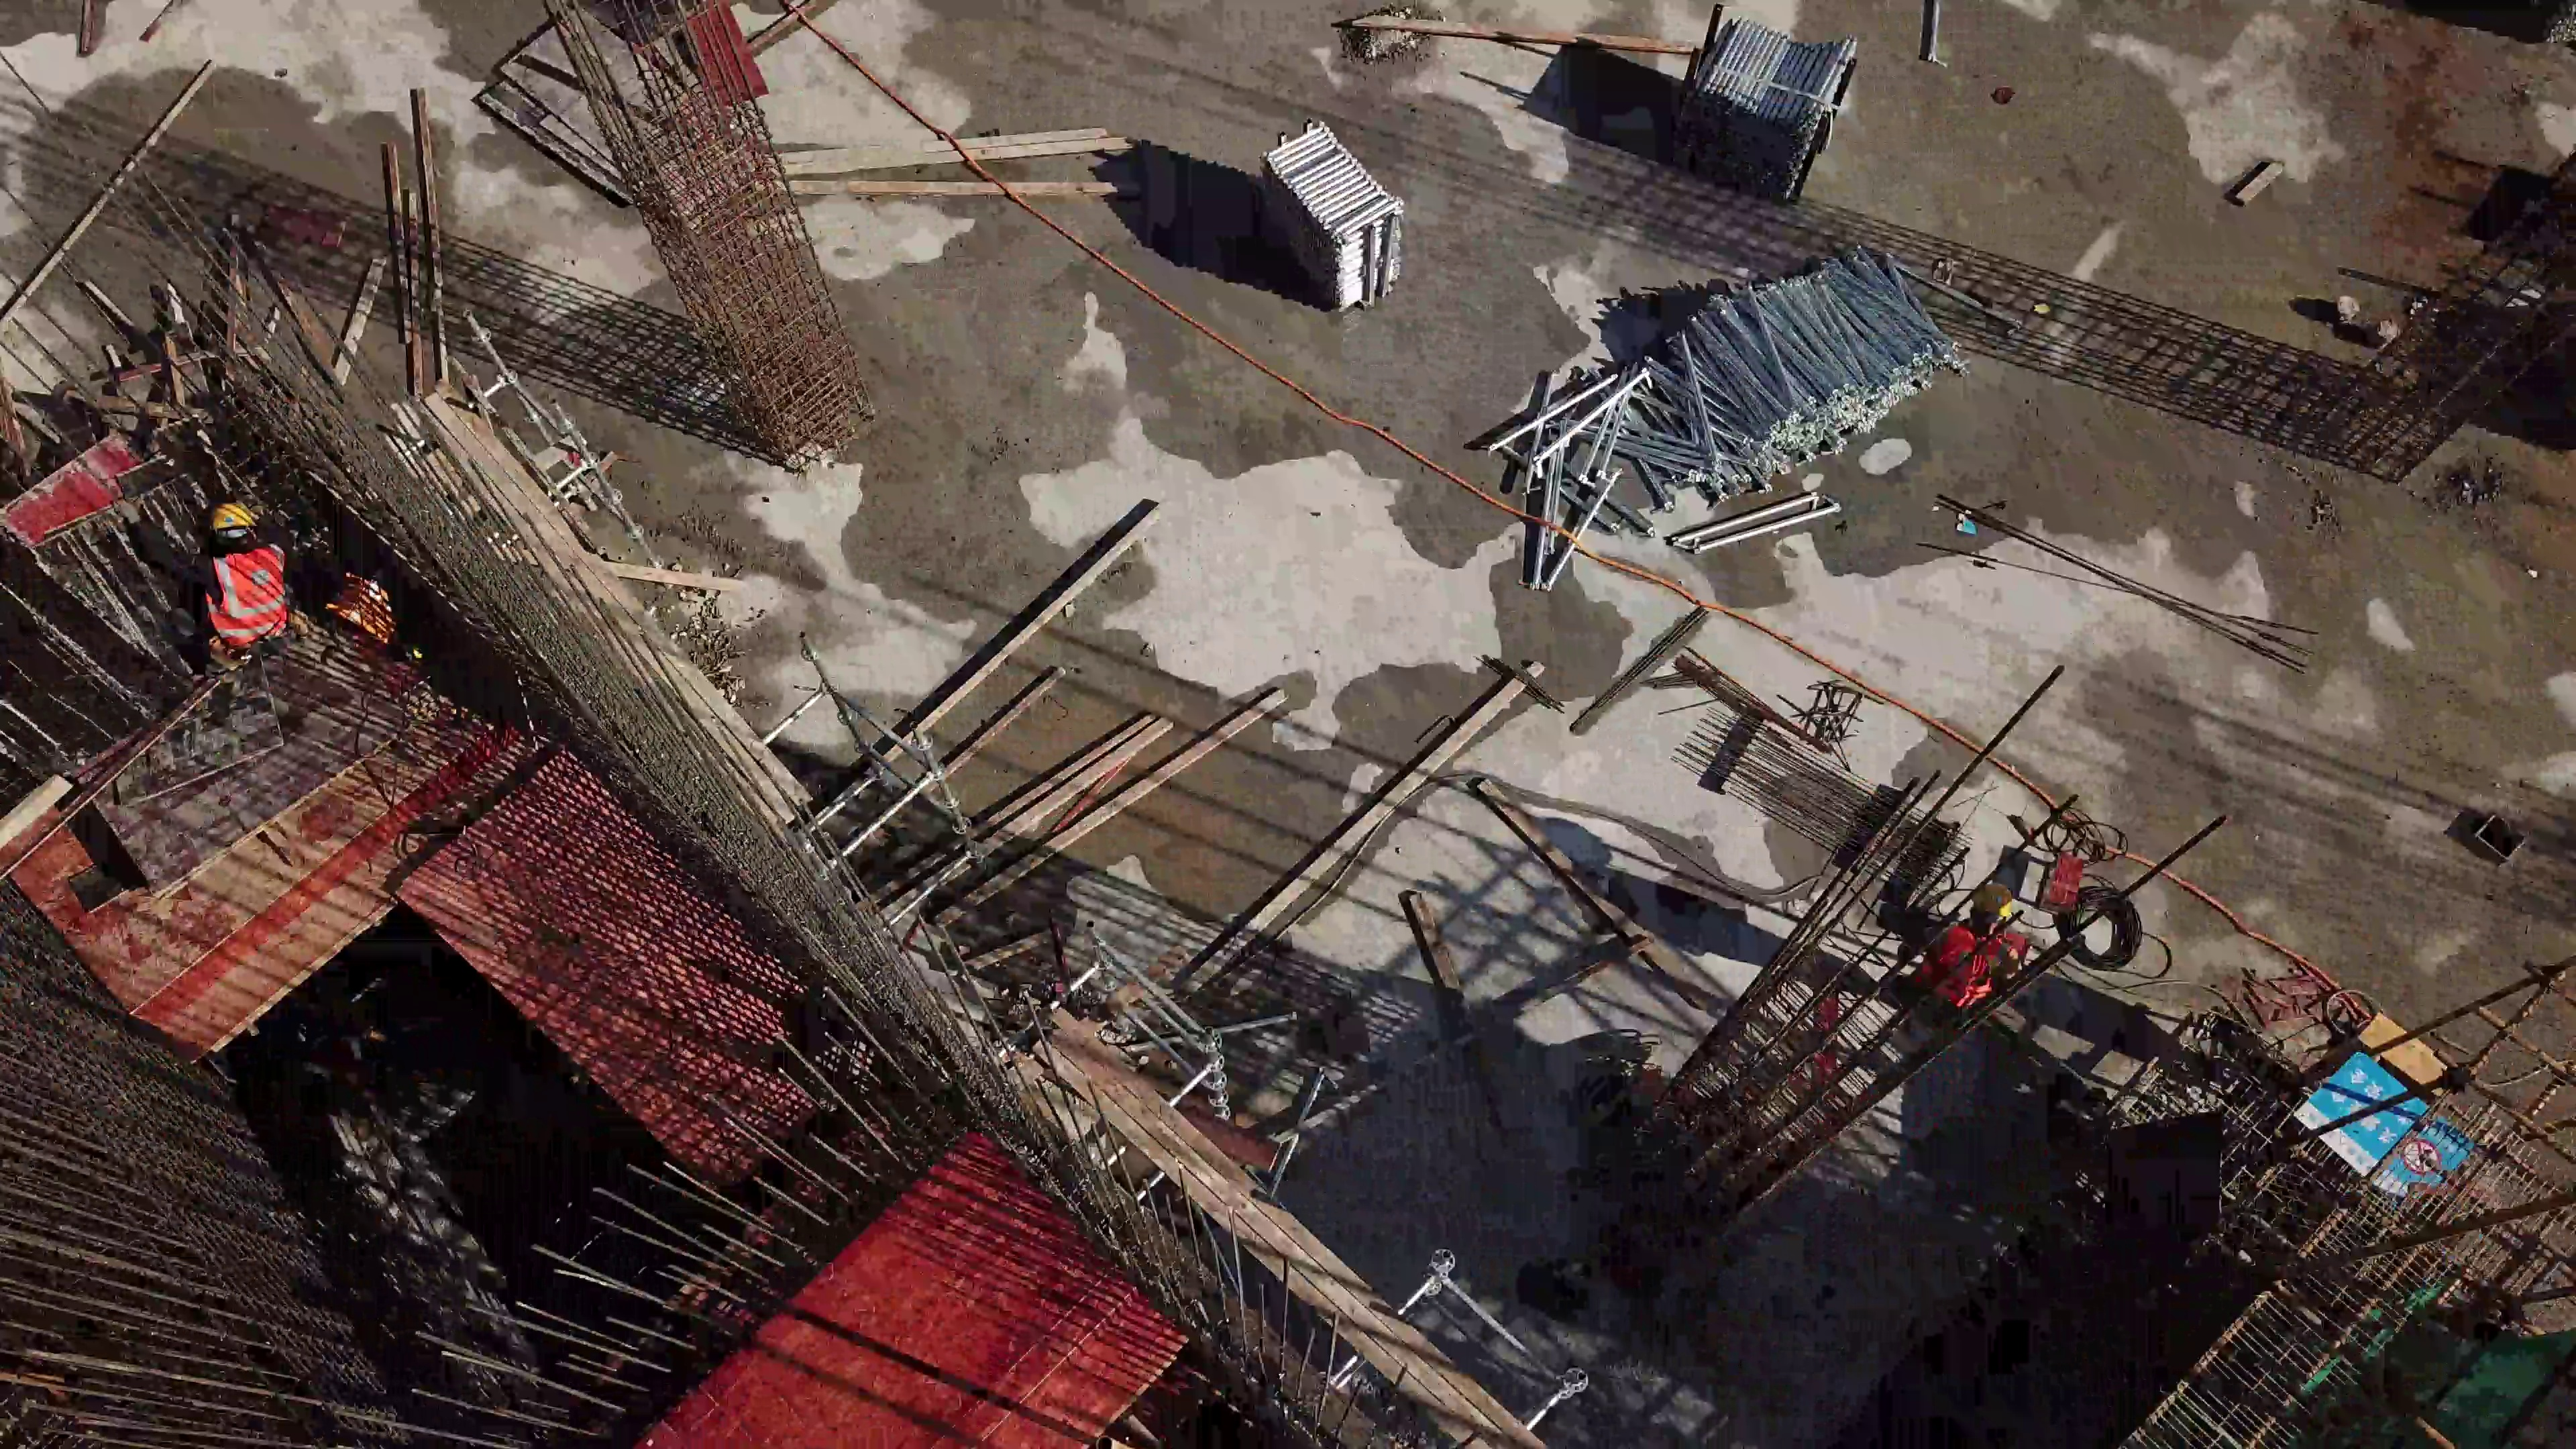helmet: (1970, 887, 2019, 918), (207, 502, 258, 529)
person: (1900, 883, 2044, 1031), (176, 491, 291, 663)
scaffold: (1639, 229, 1962, 493)
vest: (1919, 925, 2032, 1013), (196, 552, 296, 649)
